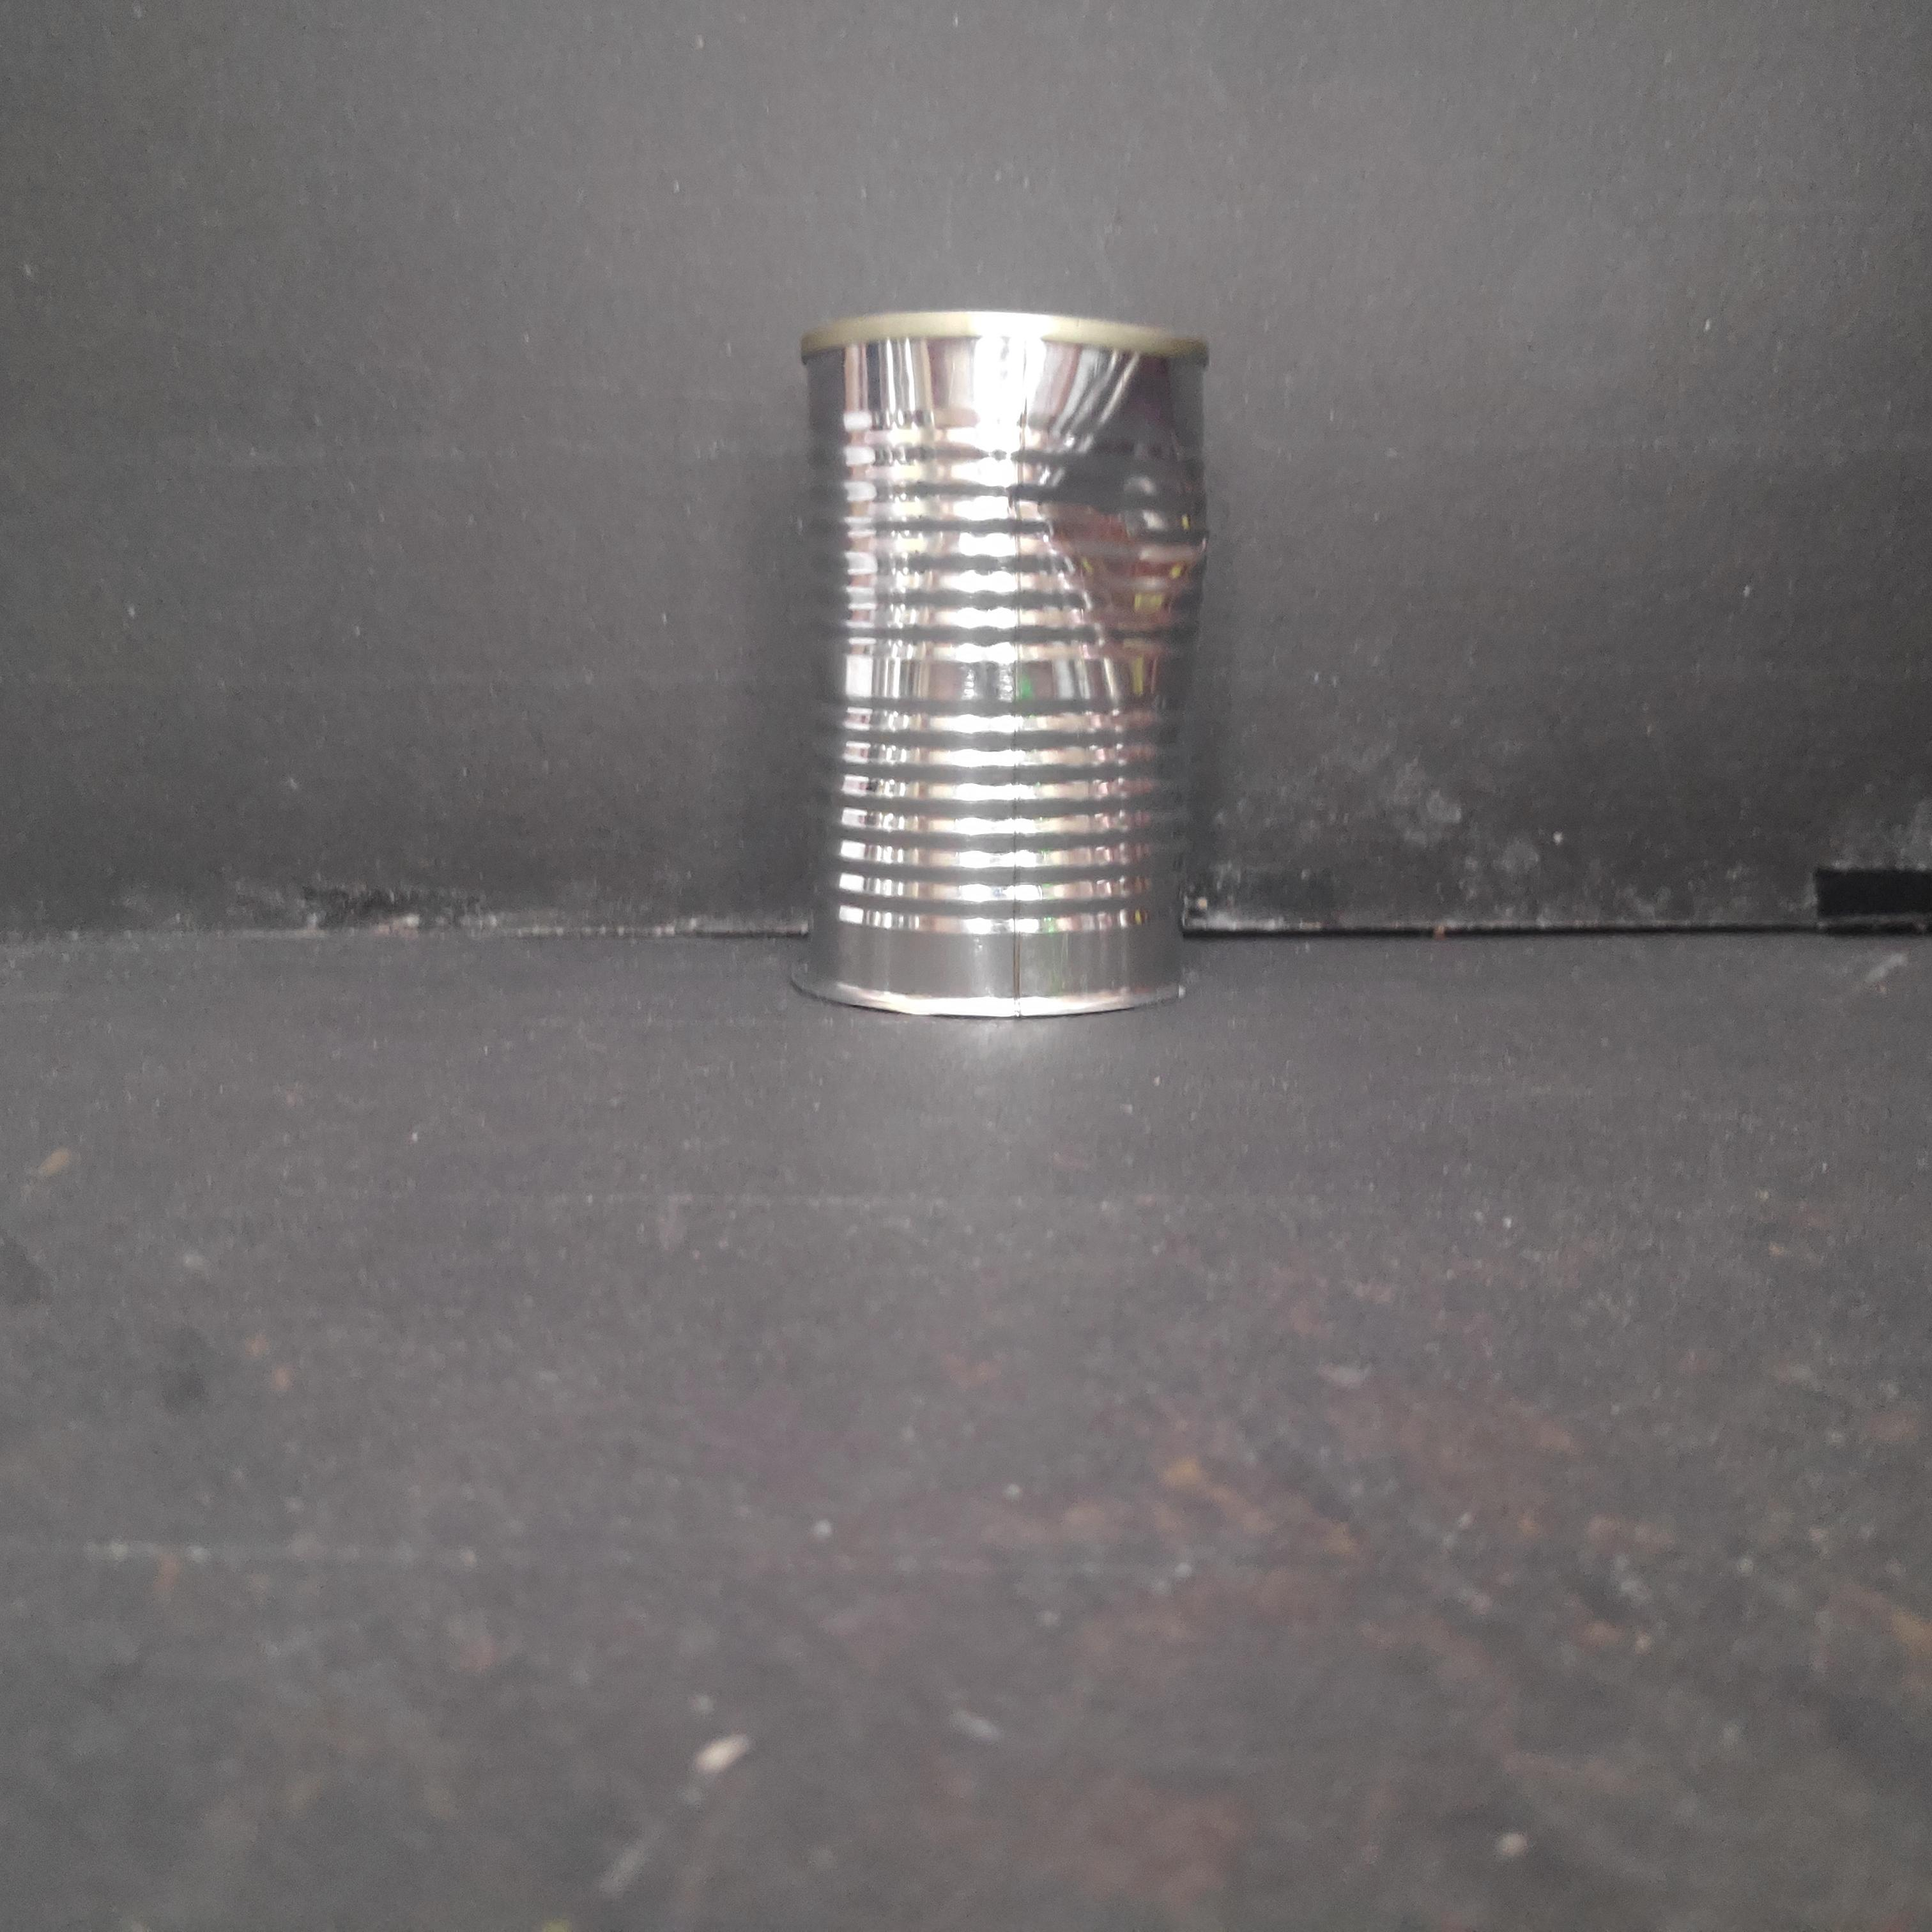Minor Defect: (787, 295, 1228, 1033)
